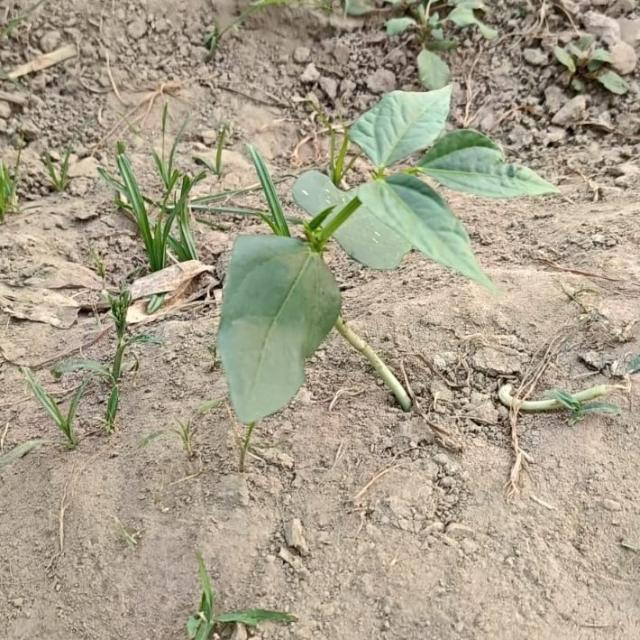plant: (218, 86, 556, 424)
